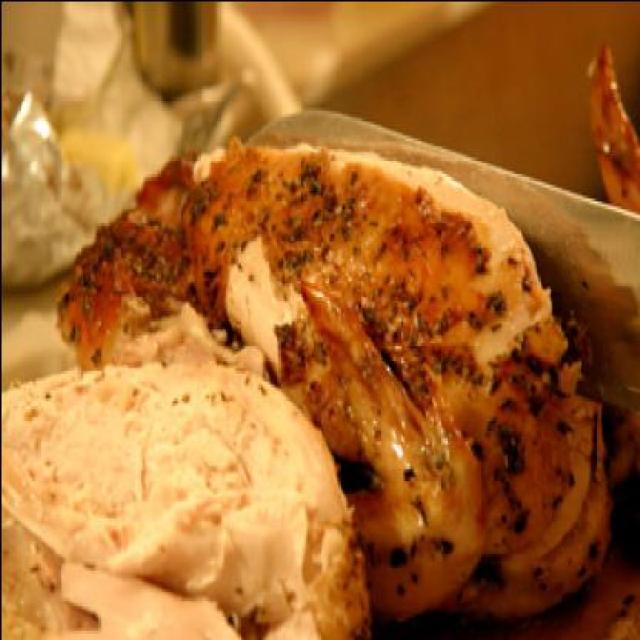Chicken: (104, 112, 578, 556)
